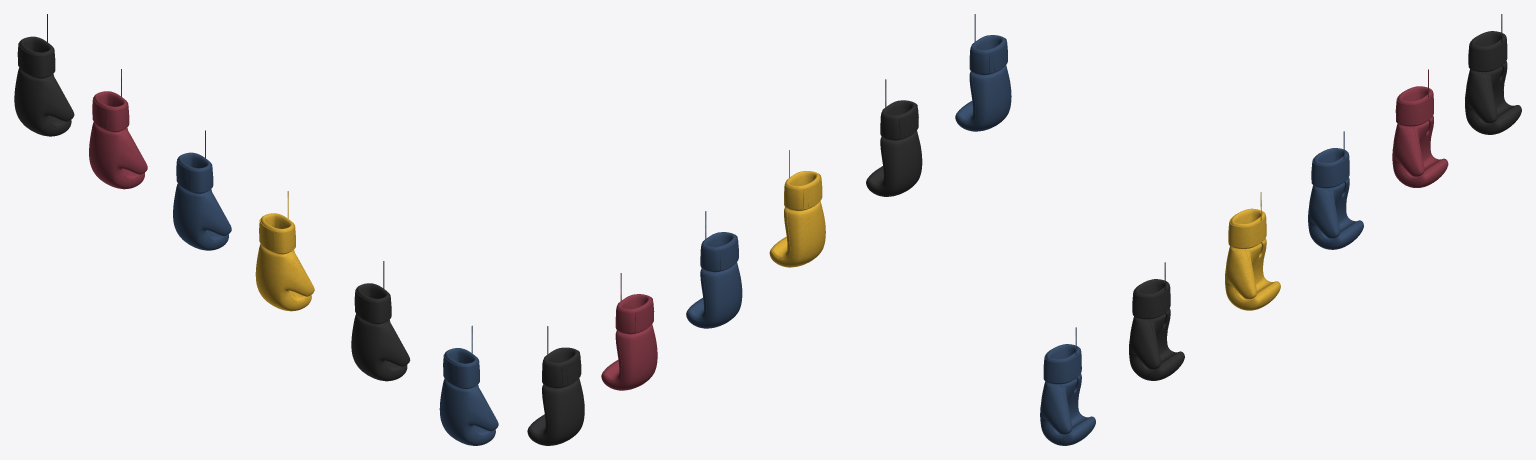
Rendered from rękawice bokserskie094.fbx.
3 views of the same model, side by side, from view 1: azimuth 30°, elevation 25°; view 2: azimuth 150°, elevation 25°; view 3: azimuth 330°, elevation 25° (orthographic).
Visible parts, largest first — view 1: rękawice bokserskie093, rękawice bokserskie097, rękawice bokserskie096, rękawice bokserskie098, rękawice bokserskie095, rękawice bokserskie094; view 2: rękawice bokserskie093, rękawice bokserskie094, rękawice bokserskie095, rękawice bokserskie098, rękawice bokserskie097, rękawice bokserskie096; view 3: rękawice bokserskie093, rękawice bokserskie095, rękawice bokserskie098, rękawice bokserskie096, rękawice bokserskie097, rękawice bokserskie094.
Boxes of the visible parts, box(x1,y1,x2,y2) form: rękawice bokserskie093: box(14, 14, 74, 136); rękawice bokserskie097: box(351, 261, 410, 381); rękawice bokserskie096: box(255, 191, 314, 311); rękawice bokserskie098: box(439, 325, 498, 445); rękawice bokserskie095: box(173, 130, 231, 250); rękawice bokserskie094: box(89, 69, 147, 189); rękawice bokserskie093: box(527, 326, 584, 445); rękawice bokserskie094: box(601, 273, 657, 390); rękawice bokserskie095: box(686, 211, 742, 328); rękawice bokserskie098: box(955, 14, 1011, 131); rękawice bokserskie097: box(866, 79, 922, 196); rękawice bokserskie096: box(769, 150, 825, 267); rękawice bokserskie093: box(1465, 14, 1521, 134); rękawice bokserskie095: box(1308, 131, 1363, 249); rękawice bokserskie098: box(1040, 327, 1095, 445); rękawice bokserskie096: box(1225, 192, 1280, 310); rękawice bokserskie097: box(1129, 262, 1184, 380); rękawice bokserskie094: box(1392, 69, 1448, 187).
Size of the model in its own units: 4.7 by 12.19 by 88.13.
